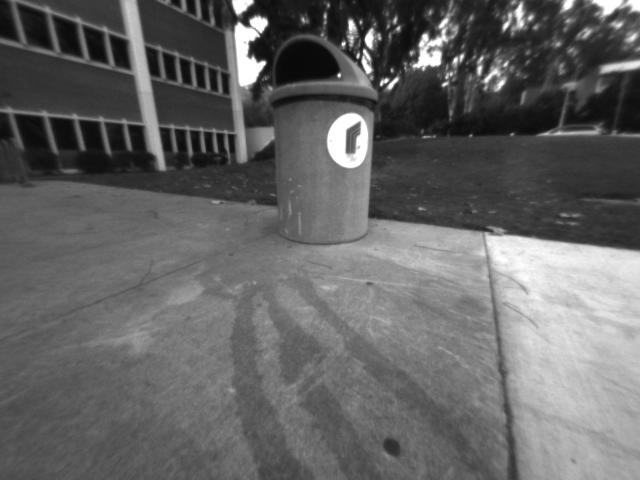trashcan: (255, 23, 392, 248)
